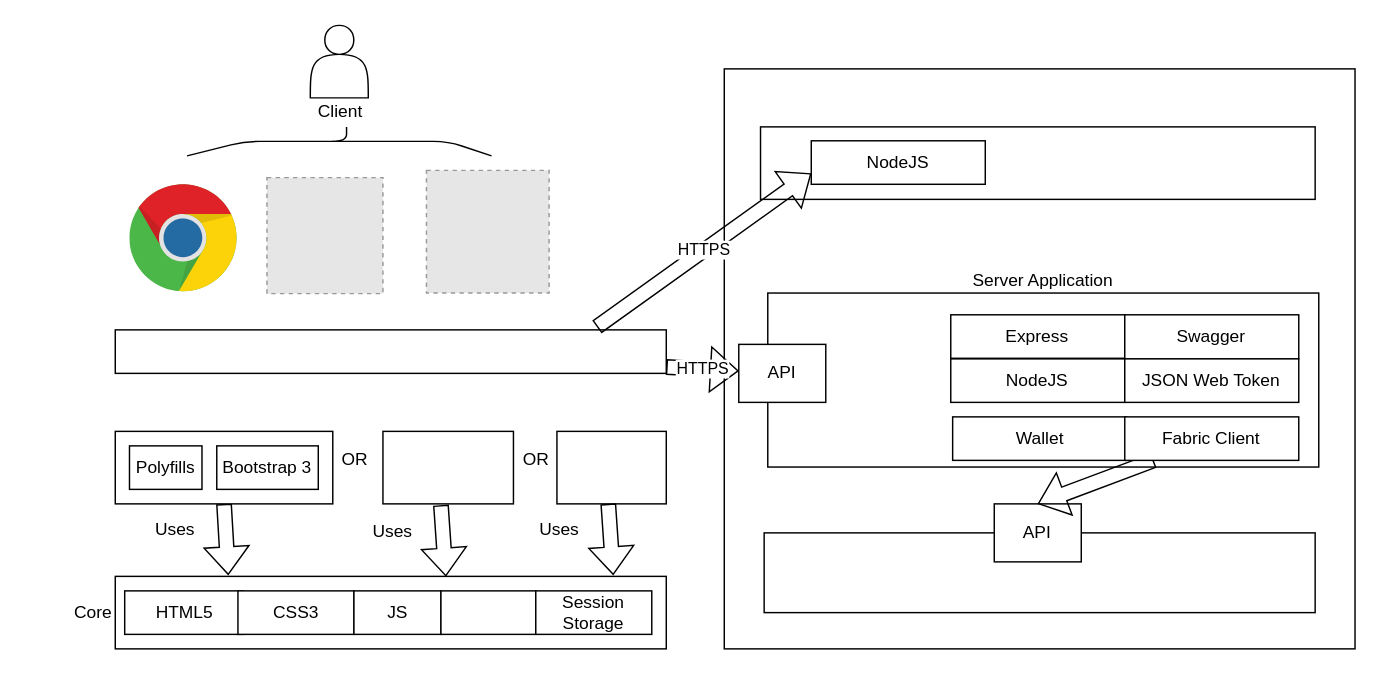
This 1380x674 diagram has some shape labels left out. Grey dashed boxes stand in for pictures. Each missing label, with the box of its shape:
Auroro: (381, 430, 513, 504)
Cloud Instrastructure: (723, 67, 1355, 649)
Cookie: (439, 589, 536, 634)
Hyperledger Fabric Network: (763, 531, 1315, 613)
React: (114, 328, 666, 373)
UI Application: (759, 125, 1315, 199)
Web Experience Toolkit: (114, 430, 333, 504)
WET 5: (555, 430, 666, 504)
